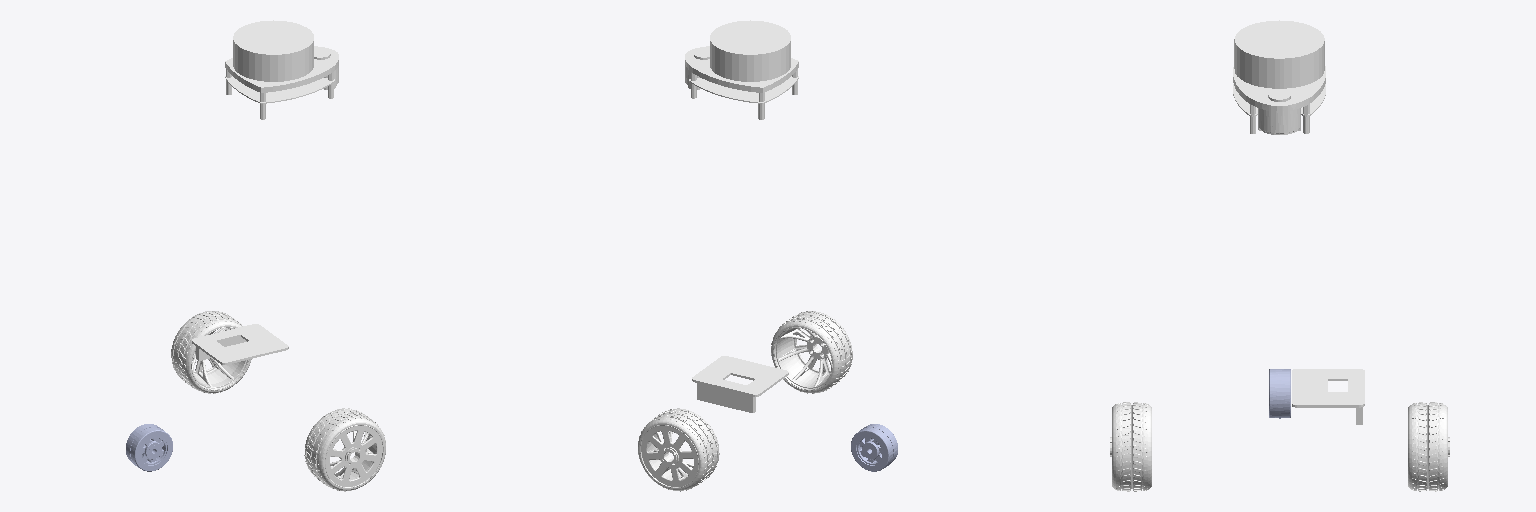
robot.urdf — rosfight_description:

<robot
  name="rosfight_description">
  <link
    name="base_link">
    <inertial>
      <origin
        xyz="0.015061 -0.00010286 0.10528"
        rpy="0 0 0" />
      <mass
        value="0.98412" />
      <inertia
        ixx="0.0094184"
        ixy="7.3035E-07"
        ixz="-0.00014754"
        iyy="0.0085892"
        iyz="5.2642E-06"
        izz="0.0060963" />
    </inertial>
    <visual>
      <origin
        xyz="0 0 0"
        rpy="0 0 0" />
      <geometry>
        <mesh
          filename="package://jetsonbot_description/meshes/base_link.STL" />
      </geometry>
      <material
        name="">
        <color
          rgba="1 1 1 1" />
      </material>
    </visual>
    <collision>
      <origin
        xyz="0 0 0"
        rpy="0 0 0" />
      <geometry>
        <mesh
          filename="package://jetsonbot_description/meshes/base_link.STL" />
      </geometry>
    </collision>
  </link>
  <link
    name="left_wheel">
    <inertial>
      <origin
        xyz="-4.26717675777732E-08 0.0024784372408253 -2.97705636195106E-07"
        rpy="0 0 0" />
      <mass
        value="0.0415060037971292" />
      <inertia
        ixx="1.92322968668373E-05"
        ixy="1.32788270951781E-10"
        ixz="5.19592168604206E-11"
        iyy="3.28029658045726E-05"
        iyz="5.13016185123578E-10"
        izz="1.92326954454023E-05" />
    </inertial>
    <visual>
      <origin
        xyz="0 0 0"
        rpy="0 0 0" />
      <geometry>
        <mesh
          filename="package://jetsonbot_description/meshes/left_wheel.STL" />
      </geometry>
      <material
        name="">
        <color
          rgba="1 1 1 1" />
      </material>
    </visual>
    <collision>
      <origin
        xyz="0 0 0"
        rpy="0 0 0" />
      <geometry>
        <mesh
          filename="package://jetsonbot_description/meshes/left_wheel.STL" />
      </geometry>
    </collision>
  </link>
  <joint
    name="left_wheel_base_joint"
    type="continuous">
    <origin
      xyz="0.049242 0.1107 -0.02075"
      rpy="0 0 0" />
    <parent
      link="base_link" />
    <child
      link="left_wheel" />
    <axis
      xyz="0 1 0" />
  </joint>
  <link
    name="right_wheel">
    <inertial>
      <origin
        xyz="9.954E-08 -0.0024784 -2.838E-07"
        rpy="0 0 0" />
      <mass
        value="0.041506" />
      <inertia
        ixx="1.9232E-05"
        ixy="2.2966E-10"
        ixz="-1.2382E-10"
        iyy="3.2803E-05"
        iyz="-4.7757E-10"
        izz="1.9233E-05" />
    </inertial>
    <visual>
      <origin
        xyz="0 0 0"
        rpy="0 0 0" />
      <geometry>
        <mesh
          filename="package://jetsonbot_description/meshes/right_wheel.STL" />
      </geometry>
      <material
        name="">
        <color
          rgba="1 1 1 1" />
      </material>
    </visual>
    <collision>
      <origin
        xyz="0 0 0"
        rpy="0 0 0" />
      <geometry>
        <mesh
          filename="package://jetsonbot_description/meshes/right_wheel.STL" />
      </geometry>
    </collision>
  </link>
  <joint
    name="right_wheel_base_joint"
    type="continuous">
    <origin
      xyz="0.049242 -0.11085 -0.02075"
      rpy="0 0 0" />
    <parent
      link="base_link" />
    <child
      link="right_wheel" />
    <axis
      xyz="0 1 0" />
  </joint>
  <link
    name="back_wheel">
    <inertial>
      <origin
        xyz="-0.00061996 -1.5302E-06 0.0020296"
        rpy="0 0 0" />
      <mass
        value="0.015887" />
      <inertia
        ixx="2.7704E-06"
        ixy="-2.0719E-10"
        ixz="3.0676E-07"
        iyy="3.9925E-06"
        iyz="6.7536E-10"
        izz="1.942E-06" />
    </inertial>
    <visual>
      <origin
        xyz="0 0 0"
        rpy="0 0 0" />
      <geometry>
        <mesh
          filename="package://jetsonbot_description/meshes/back_wheel.STL" />
      </geometry>
      <material
        name="">
        <color
          rgba="0.79216 0.81961 0.93333 1" />
      </material>
    </visual>
    <collision>
      <origin
        xyz="0 0 0"
        rpy="0 0 0" />
      <geometry>
        <mesh
          filename="package://jetsonbot_description/meshes/back_wheel.STL" />
      </geometry>
    </collision>
  </link>
  <joint
    name="back_wheel_base_joint"
    type="continuous">
    <origin
      xyz="-0.07536 -7.7732E-05 -0.034638"
      rpy="0 0 0" />
    <parent
      link="base_link" />
    <child
      link="back_wheel" />
    <axis
      xyz="0 -1 0" />
  </joint>
  <link
    name="laser">
    <inertial>
      <origin
        xyz="0.0063185 -6.7163E-07 -0.0074059"
        rpy="0 0 0" />
      <mass
        value="0.13794" />
      <inertia
        ixx="6.0291E-05"
        ixy="8.3328E-10"
        ixz="1.5787E-05"
        iyy="9.3994E-05"
        iyz="-2.3592E-09"
        izz="0.00011095" />
    </inertial>
    <visual>
      <origin
        xyz="0 0 0"
        rpy="0 0 0" />
      <geometry>
        <mesh
          filename="package://jetsonbot_description/meshes/lidar_link.STL" />
      </geometry>
      <material
        name="">
        <color
          rgba="1 1 1 1" />
      </material>
    </visual>
    <collision>
      <origin
        xyz="0 0 0"
        rpy="0 0 0" />
      <geometry>
        <mesh
          filename="package://jetsonbot_description/meshes/lidar_link.STL" />
      </geometry>
    </collision>
  </link>
  <joint
    name="lidar_base_joint"
    type="fixed">
    <origin
      xyz="0.044314 -0.00034914 0.3025"
      rpy="0 0 0" />
    <parent
      link="base_link" />
    <child
      link="laser" />
    <axis
      xyz="0 0 0" />
  </joint>
  <link
    name="imu_link">
    <inertial>
      <origin
        xyz="0 0 0"
        rpy="0 0 0" />
      <mass
        value="0" />
      <inertia
        ixx="0"
        ixy="0"
        ixz="0"
        iyy="0"
        iyz="0"
        izz="0" />
    </inertial>
    <visual>
      <origin
        xyz="0 0 0"
        rpy="0 0 0" />
      <geometry>
        <mesh
          filename="package://jetsonbot_description/meshes/imu_link.STL" />
      </geometry>
      <material
        name="">
        <color
          rgba="1 1 1 1" />
      </material>
    </visual>
    <collision>
      <origin
        xyz="0 0 0"
        rpy="0 0 0" />
      <geometry>
        <mesh
          filename="package://jetsonbot_description/meshes/imu_link.STL" />
      </geometry>
    </collision>
  </link>
  <joint
    name="imu_base_joint"
    type="fixed">
    <origin
      xyz="0.033381 0.035368 0.0215"
      rpy="0 0 3.1416" />
    <parent
      link="base_link" />
    <child
      link="imu_link" />
    <axis
      xyz="0 0 0" />
  </joint>
</robot>

--- Facts derived from the render (not from the file) ---
Views: 3 orthographic renders of the robot side by side, from view 1: azimuth 30°, elevation 25°; view 2: azimuth 150°, elevation 25°; view 3: azimuth 270°, elevation 25°.
Robot: rosfight_description — 6 links, 5 joints (3 continuous, 2 fixed); root link base_link; default pose: all joints at 0.
Links seen in each view (by area): view 1: laser, right_wheel, left_wheel, imu_link, back_wheel; view 2: laser, left_wheel, right_wheel, imu_link, back_wheel; view 3: laser, right_wheel, left_wheel, imu_link, back_wheel.
Link boxes in pixels (bbox=[...]): laser: bbox=[225, 20, 338, 119]; right_wheel: bbox=[304, 408, 385, 491]; left_wheel: bbox=[171, 311, 251, 393]; imu_link: bbox=[192, 324, 288, 364]; back_wheel: bbox=[126, 424, 172, 471]; laser: bbox=[685, 20, 798, 119]; left_wheel: bbox=[638, 408, 719, 491]; right_wheel: bbox=[771, 311, 852, 393]; imu_link: bbox=[692, 356, 788, 412]; back_wheel: bbox=[851, 424, 897, 471]; laser: bbox=[1233, 20, 1325, 134]; right_wheel: bbox=[1110, 402, 1151, 491]; left_wheel: bbox=[1408, 402, 1449, 491]; imu_link: bbox=[1292, 369, 1364, 424]; back_wheel: bbox=[1269, 369, 1290, 418].
Size in the robot's own frame: 0.1992 by 0.2552 by 0.3692 metres.
5 mesh visuals loaded from 6 distinct referenced files (5 binary STL); not drawn: 1 (reference not matched to a file when rendering).